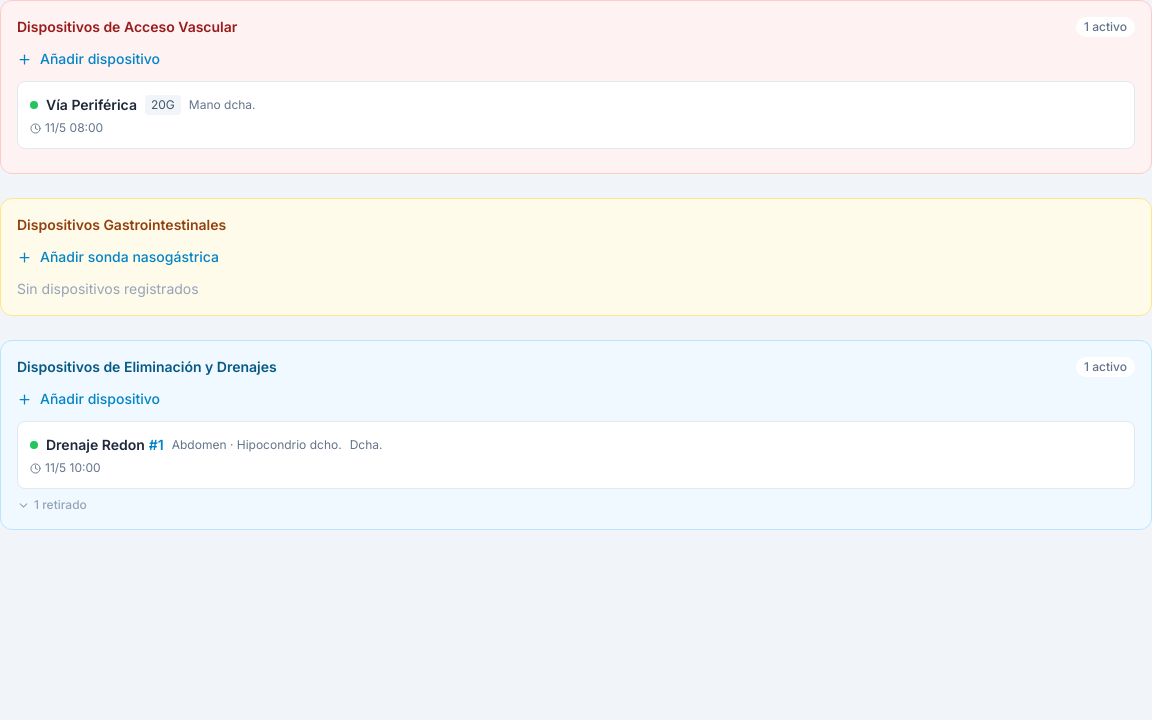
Test: DevicesTab › cierra modal con botón cancelar
Click the button "Añadir dispositivo" below "Dispositivos de Acceso Vascular".
click(89, 59)  # box x1=17 y1=49 x2=160 y2=69
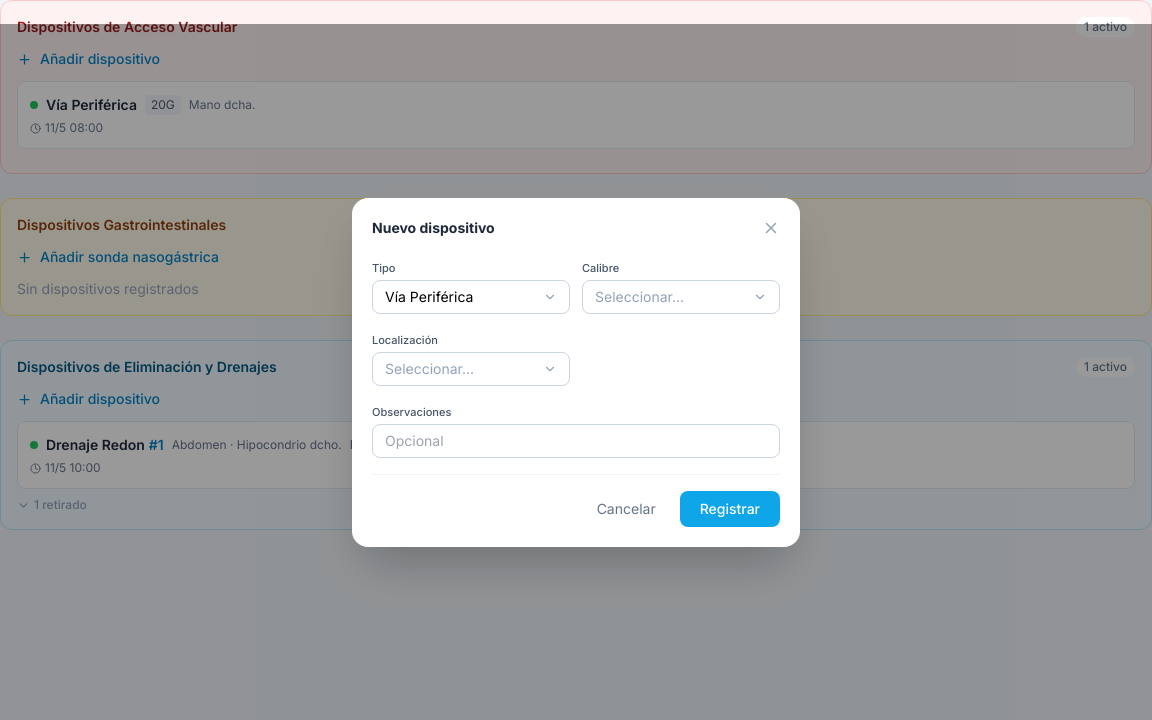
Check: the heading "Nuevo dispositivo" is shown, box x1=372 y1=218 x2=495 y2=238
Click the button "Cancelar".
click(626, 508)  # box x1=581 y1=490 x2=672 y2=526
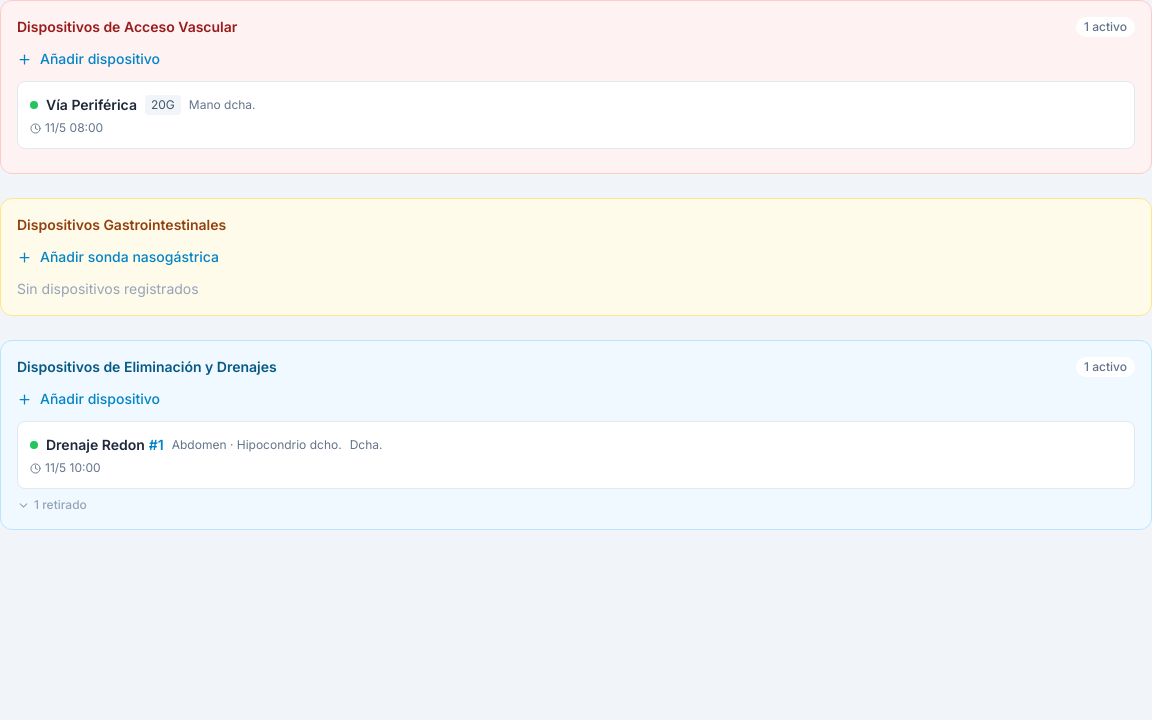
Check: the heading "Nuevo dispositivo" is gone
